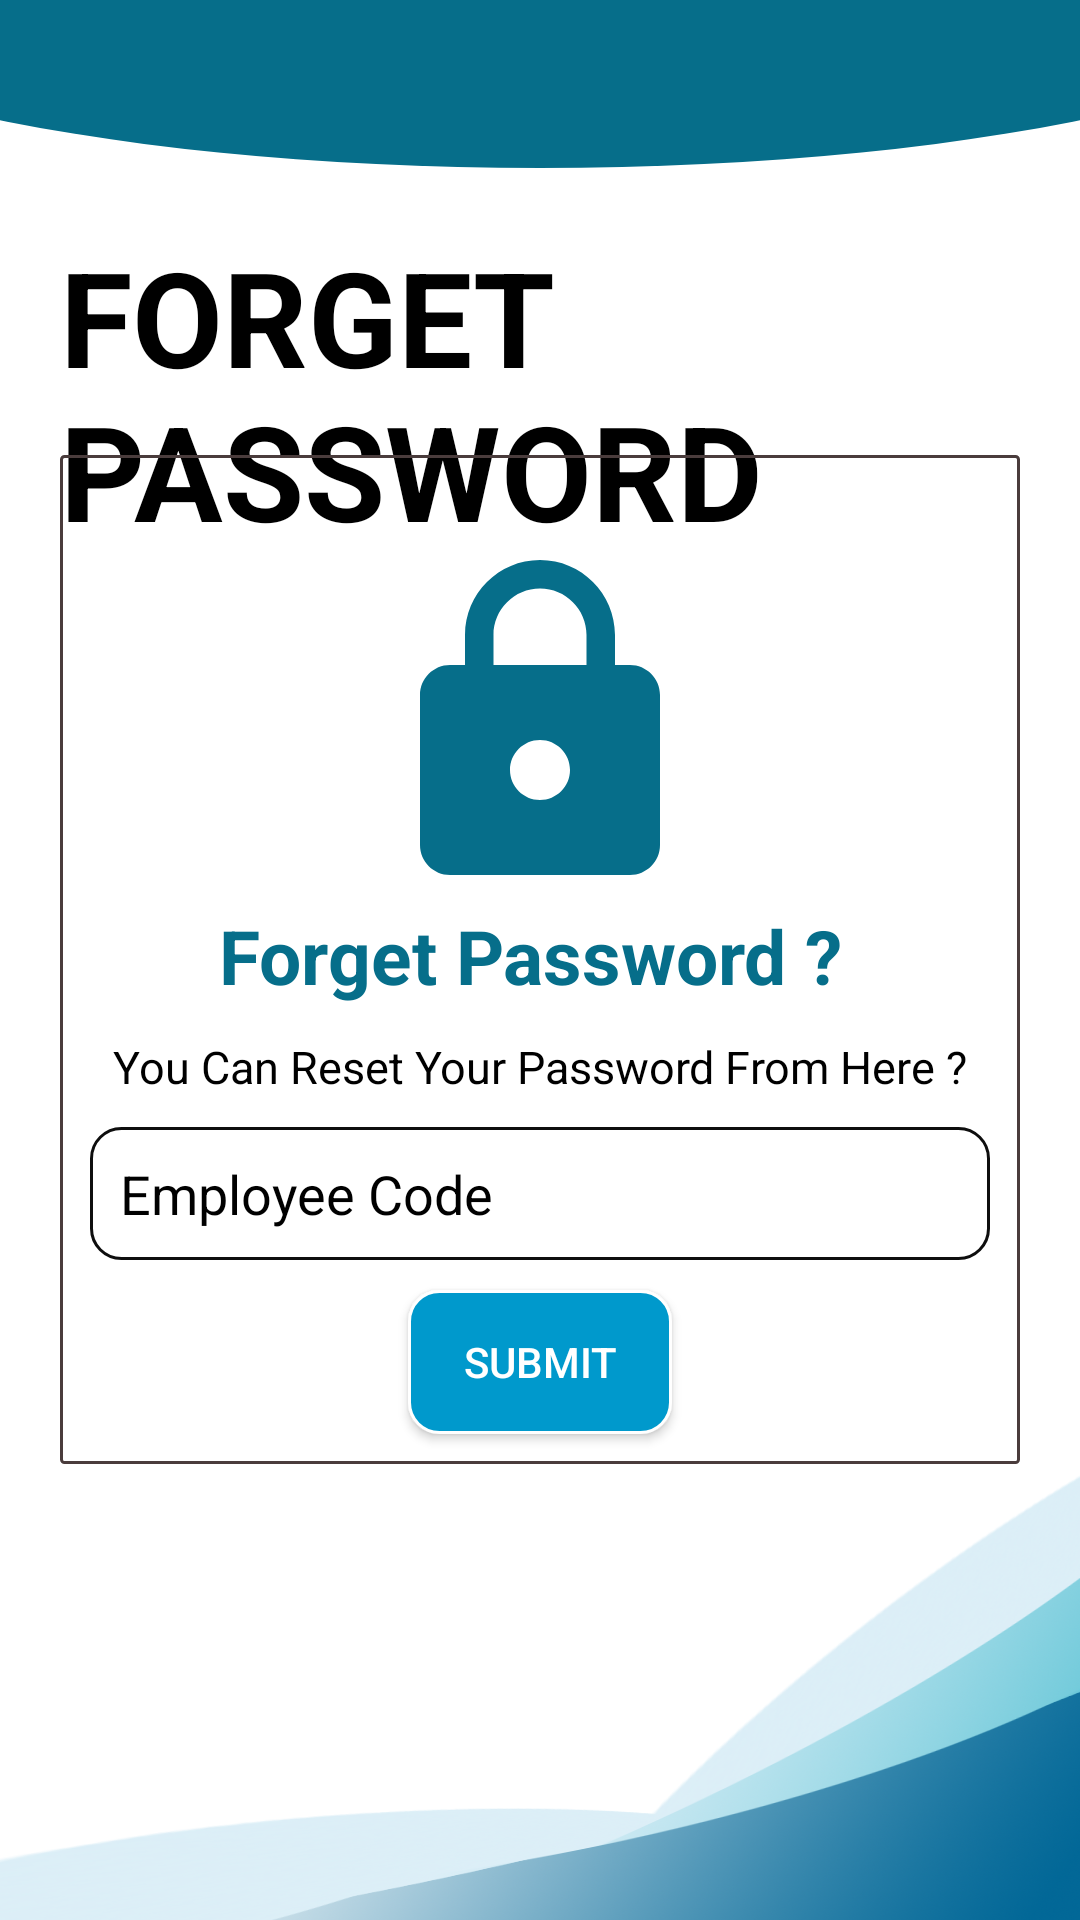

Icons on this 1080×1920 Android screen, each with the point to tap as (x,y):
lock: (540,717)
